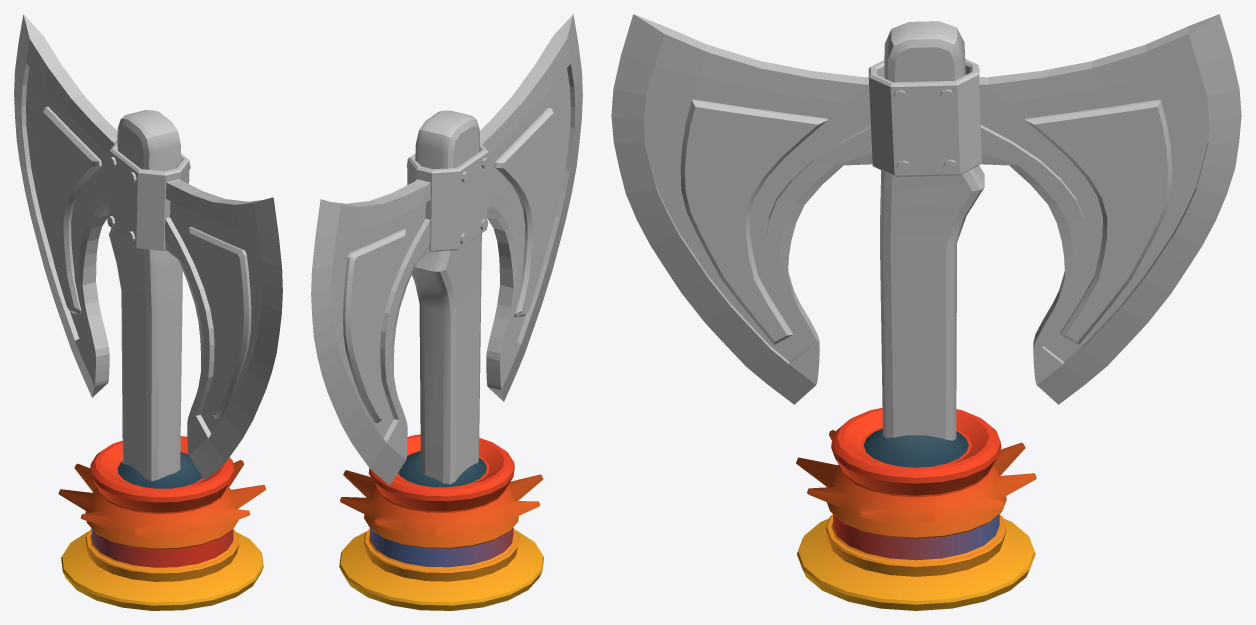
File: 2_Axe_Module.fbx
3 renders of one model, left to right at view 1: azimuth 30°, elevation 25°; view 2: azimuth 150°, elevation 25°; view 3: azimuth 270°, elevation 25°, orthographic. The views are drawn at different scales.
Visible parts, largest first — view 1: Axe4, Axe_Module; view 2: Axe4, Axe_Module; view 3: Axe4, Axe_Module.
Boxes of the visible parts, x1,y1,x2,y2 form: Axe4: (14, 14, 282, 481); Axe_Module: (58, 436, 266, 610); Axe4: (311, 14, 582, 484); Axe_Module: (339, 434, 543, 610); Axe4: (611, 14, 1241, 440); Axe_Module: (796, 407, 1036, 610).
Size of the model in its own units: 49.58 by 131 by 130.
